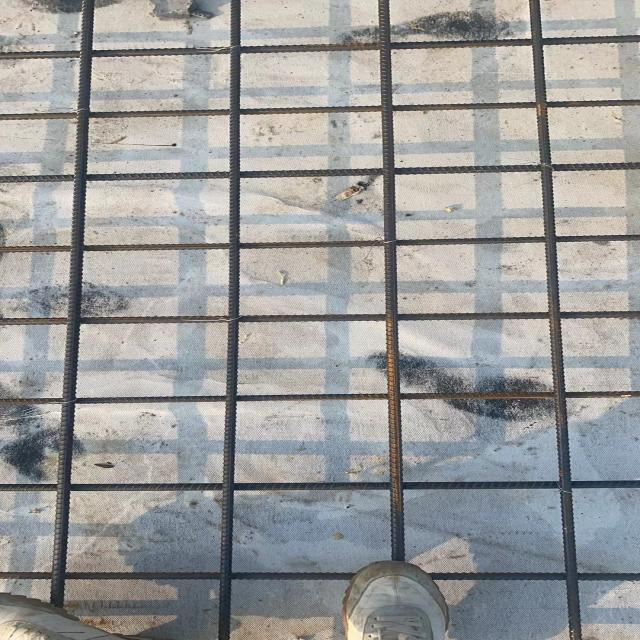ribbed bar: (525, 0, 583, 639), (47, 0, 96, 609), (375, 0, 407, 564), (215, 0, 243, 639), (0, 35, 639, 62), (0, 161, 639, 184), (0, 99, 639, 121), (0, 234, 639, 252), (0, 310, 639, 326), (0, 391, 639, 405), (0, 480, 639, 491), (0, 571, 639, 582)
